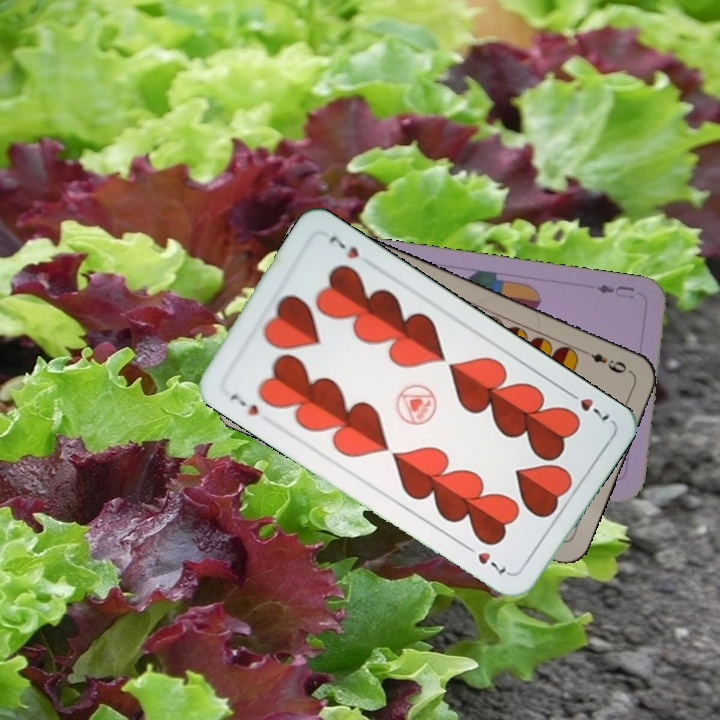E9: (578, 345, 630, 376)
EU: (593, 280, 637, 302)
H7: (562, 386, 613, 426), (226, 389, 262, 419)
